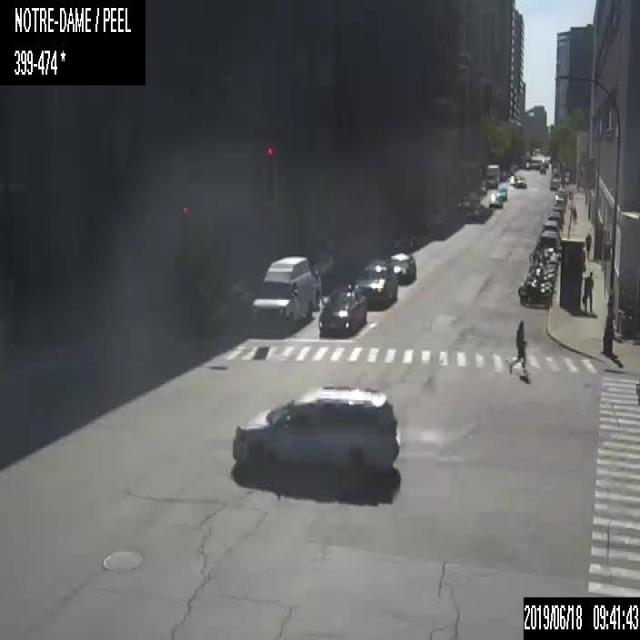pedestrian: (507, 316, 528, 375), (582, 269, 594, 312), (584, 232, 592, 261), (568, 201, 577, 224)
vehicle: (230, 383, 400, 468), (252, 255, 318, 329), (318, 287, 366, 334), (348, 262, 397, 308), (208, 284, 248, 326), (384, 251, 416, 284), (517, 279, 551, 304), (303, 250, 334, 274), (538, 230, 560, 253), (528, 244, 558, 260), (525, 266, 556, 280), (531, 252, 558, 267), (542, 220, 559, 241), (485, 164, 499, 187), (546, 210, 560, 232), (456, 195, 470, 211), (488, 193, 501, 207), (554, 188, 567, 202), (552, 204, 562, 222), (514, 174, 526, 188), (554, 195, 564, 210), (497, 186, 506, 200)
